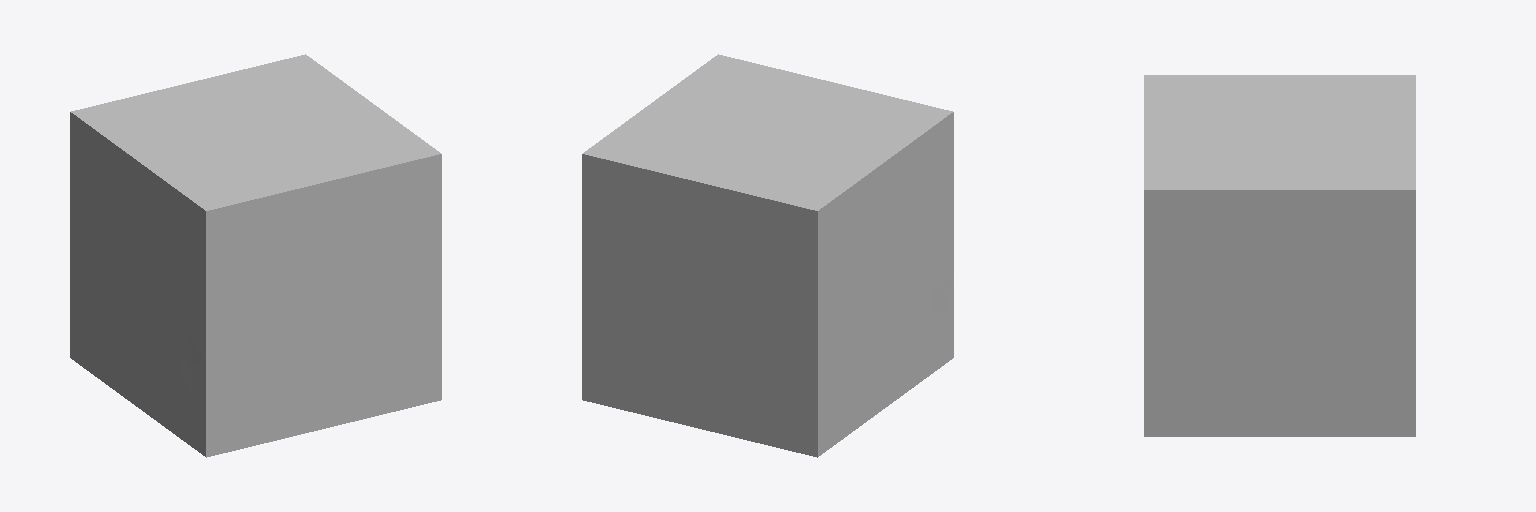
The model's file is Section2_Part1_IsolatedTriangles_Subdivision_SimpleMethod_Level3.obj.
The picture shows the model from 3 angles: view 1: azimuth 30°, elevation 25°; view 2: azimuth 150°, elevation 25°; view 3: azimuth 270°, elevation 25°; orthographic projection.
Parts seen in each view (by area): view 1: Cube_Cube.001; view 2: Cube_Cube.001; view 3: Cube_Cube.001.
Boxes of the visible parts, x1=… form: Cube_Cube.001: x1=70, y1=54, x2=441, y2=457; Cube_Cube.001: x1=582, y1=54, x2=953, y2=457; Cube_Cube.001: x1=1144, y1=75, x2=1415, y2=436.
Size of the model in its own units: 2.11 by 2.11 by 2.11.